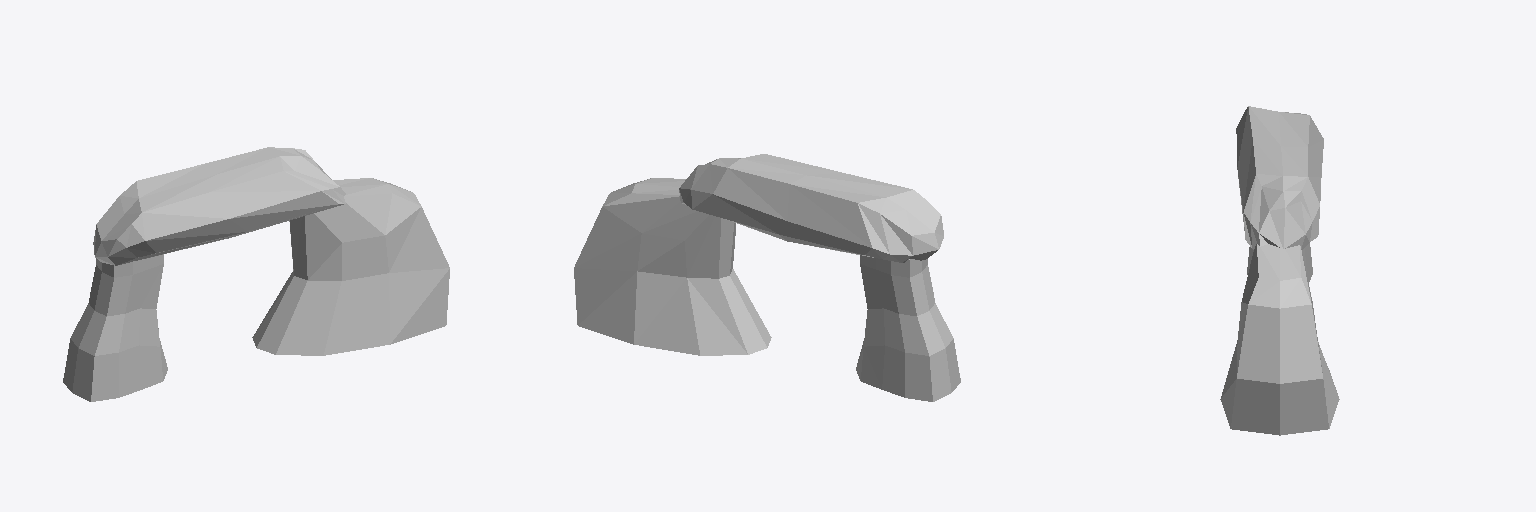
Rendered from rock_structures_4.obj.
3 views of the same model, side by side, from view 1: azimuth 30°, elevation 25°; view 2: azimuth 150°, elevation 25°; view 3: azimuth 270°, elevation 25° (orthographic).
Parts seen in each view (by area): view 1: Plane.001, Cube, Plane; view 2: Plane.001, Cube, Plane; view 3: Plane.001, Cube.
Part boxes in pixels (x1,y1,x2,y2): Plane.001: (252,178,449,355); Cube: (93,147,345,265); Plane: (63,254,167,401); Plane.001: (574,178,771,355); Cube: (679,154,943,262); Plane: (856,255,960,401); Plane.001: (1220,244,1339,435); Cube: (1236,106,1323,249).
Size of the model in its own units: 27.82 by 13.36 by 7.81.